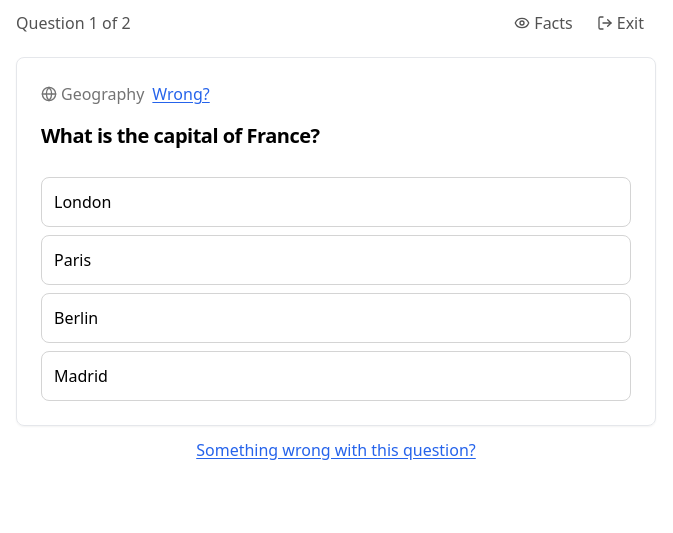
Test case: Play screen › selecting an option shows Lock In button without revealing answer
Click the button "Paris": click(73, 260) top-left (41, 234), bottom-right (631, 284)
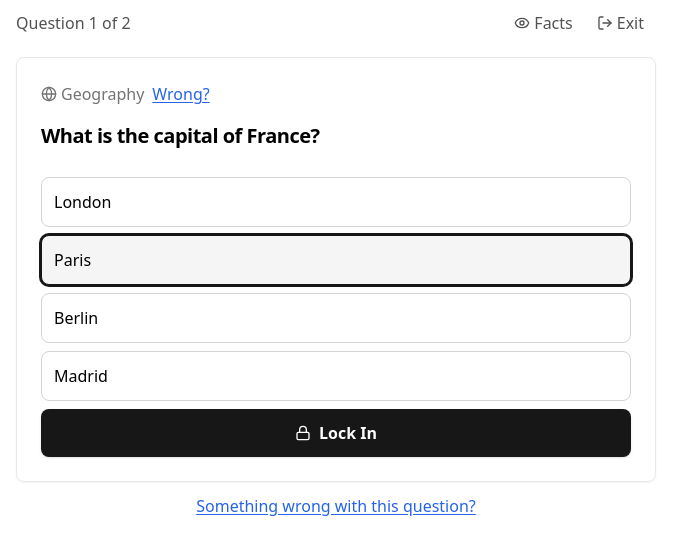
Now the button "Lock In" is shown, box top-left (41, 408), bottom-right (631, 456)
